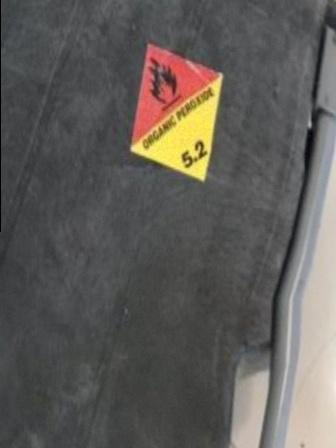organic-peroxide: (127, 42, 224, 186)
